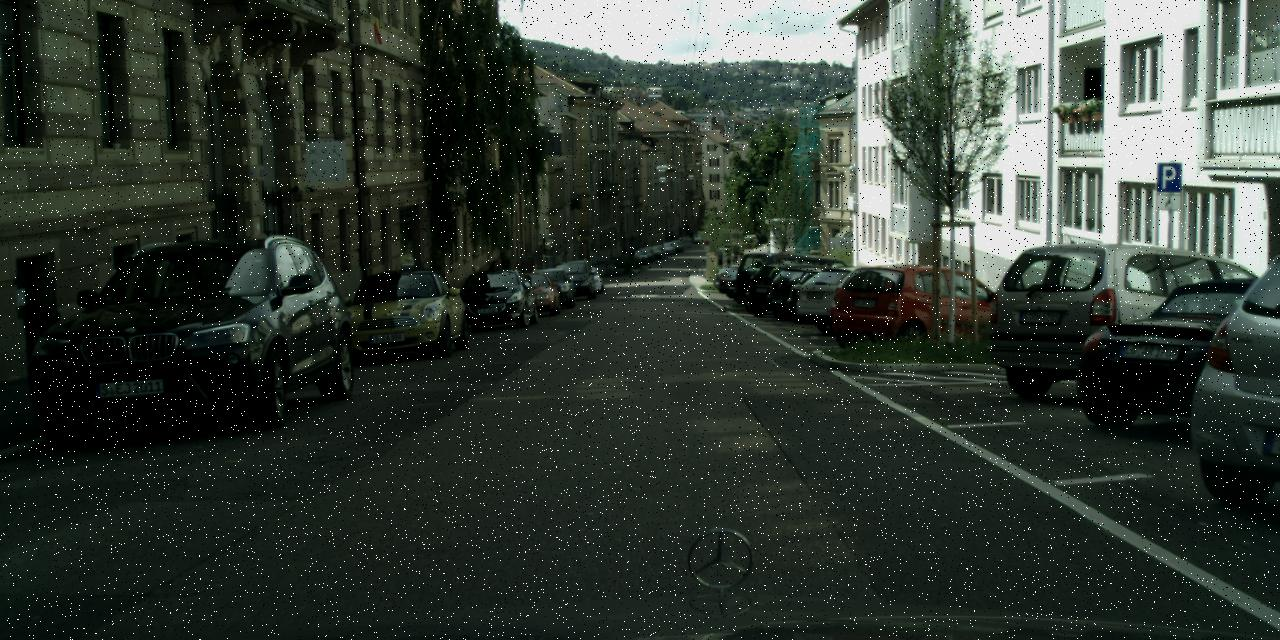ped: (486, 260, 502, 298), (468, 265, 483, 301)
